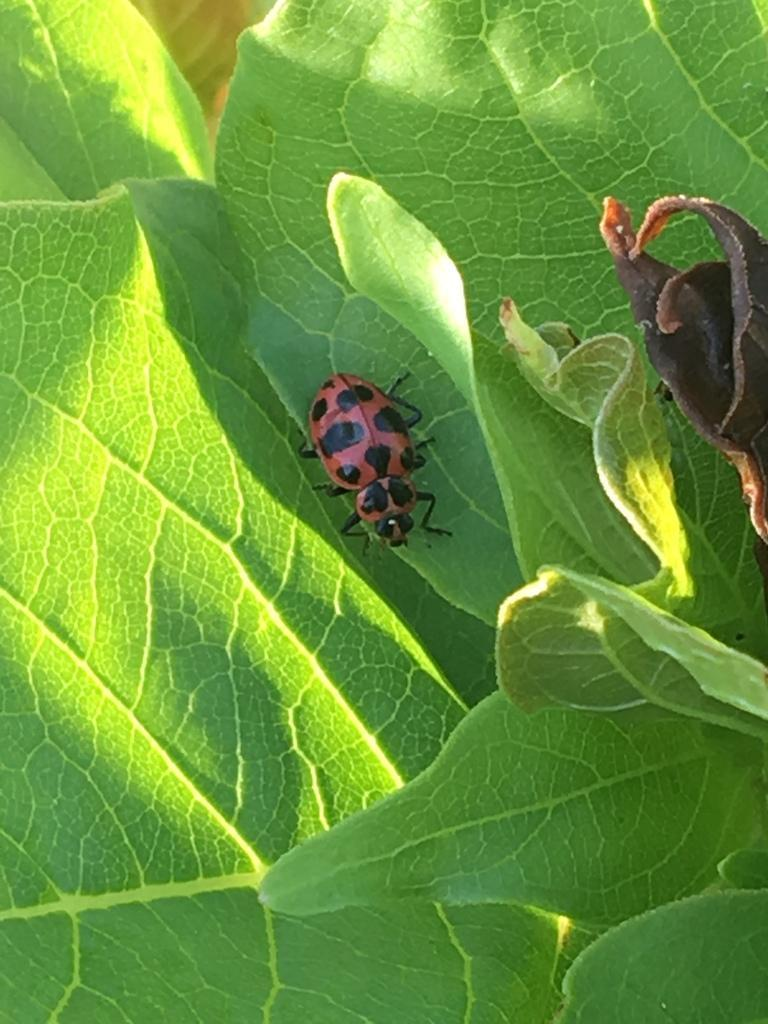ladybug: (289, 369, 461, 556)
